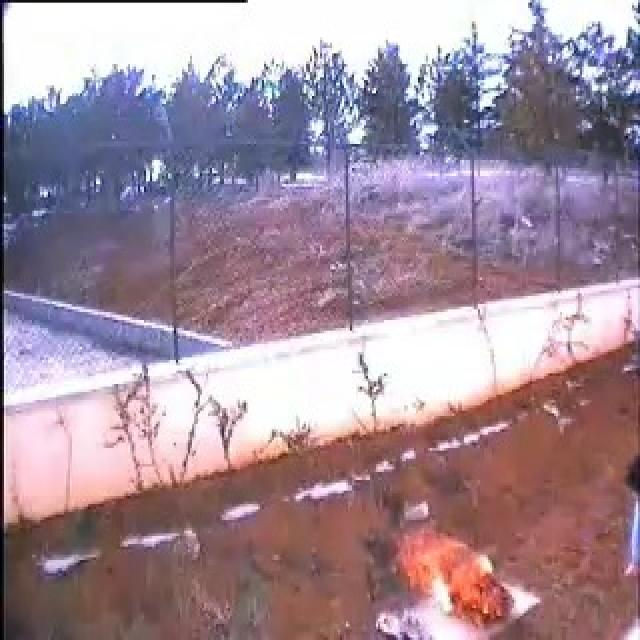fire: (402, 538, 506, 599)
